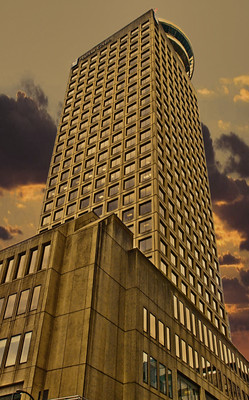high: (36, 9, 239, 400)
